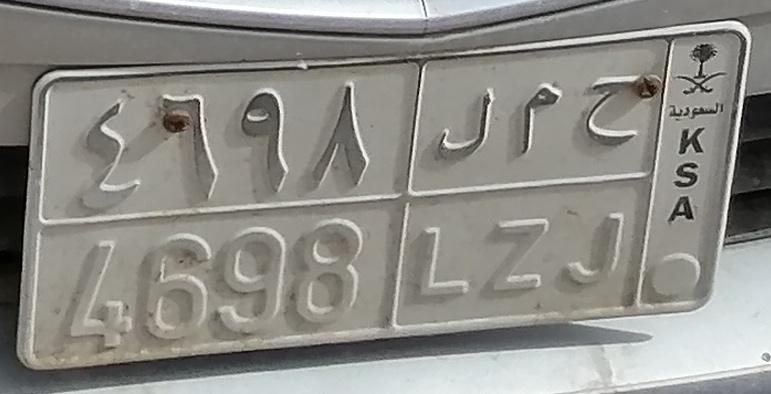4: (66, 97, 142, 353)
6: (142, 88, 216, 342)
8: (294, 80, 373, 325)
9: (216, 84, 289, 337)
J: (568, 74, 642, 289)
L: (419, 85, 494, 304)
Z: (492, 81, 565, 300)
